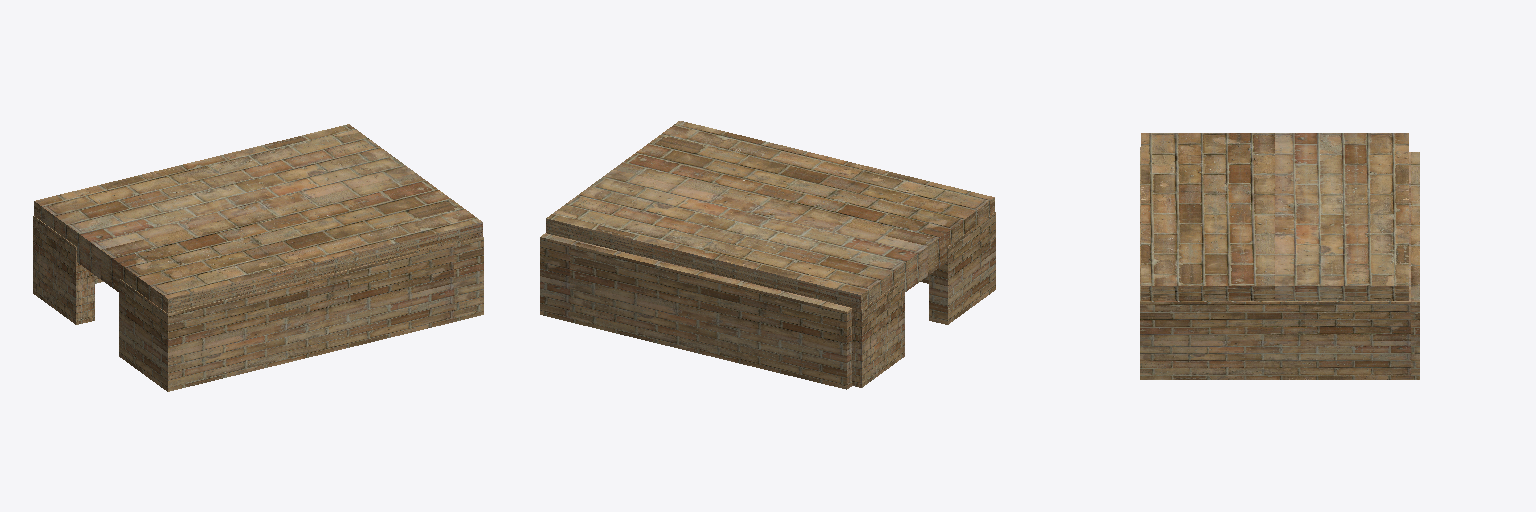
The picture shows the model from 3 angles: view 1: azimuth 30°, elevation 25°; view 2: azimuth 150°, elevation 25°; view 3: azimuth 270°, elevation 25°; orthographic projection.
Parts seen in each view (by area): view 1: Wall003, Wall001, Wall002; view 2: Wall003, Wall001, Wall002; view 3: Wall003, Wall001.
Part boxes in pixels (x1,y1,x2,y2): Wall003: (34, 124, 482, 313); Wall001: (95, 237, 483, 391); Wall002: (33, 216, 94, 324); Wall003: (546, 121, 994, 324); Wall001: (540, 212, 995, 389); Wall002: (852, 279, 904, 387); Wall003: (1141, 133, 1408, 300); Wall001: (1140, 147, 1419, 379).
Bounding box in the file's own units: 85 × 23.81 × 65.
1 materials, 1 textured.